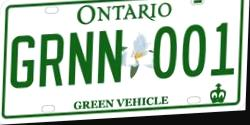License_Plate: (3, 0, 243, 119)
